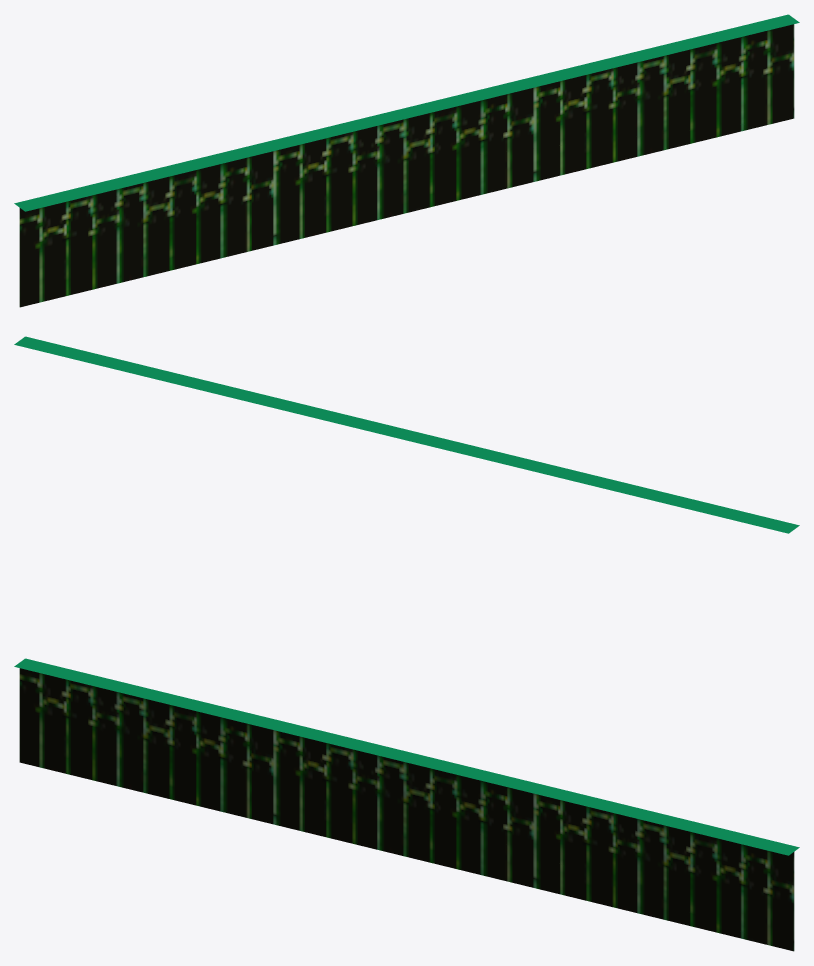
File: Geländer4Hoch [GrünesMetall]_300.glb
The picture shows the model from 3 angles, top to bottom: view 1: azimuth 30°, elevation 25°; view 2: azimuth 150°, elevation 25°; view 3: azimuth 330°, elevation 25°; orthographic projection.
Visible parts, largest first — view 1: pPlaneShape223, pPlaneShape224; view 2: pPlaneShape224; view 3: pPlaneShape223, pPlaneShape224.
Part boxes in pixels (x1,y1,x2,y2): pPlaneShape223: (19,24,794,307); pPlaneShape224: (14,14,799,211); pPlaneShape224: (14,336,799,533); pPlaneShape223: (19,668,794,951); pPlaneShape224: (14,658,799,855).
Bounding box in the file's own units: 0.9614 × 0.1185 × 0.0243.
2 materials, 1 textured.
